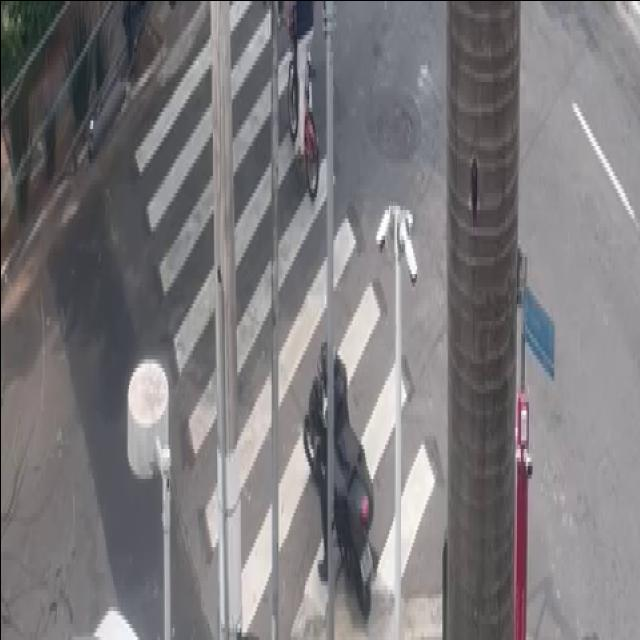bicycle: (273, 0, 325, 200)
motorbike: (296, 323, 382, 625)
